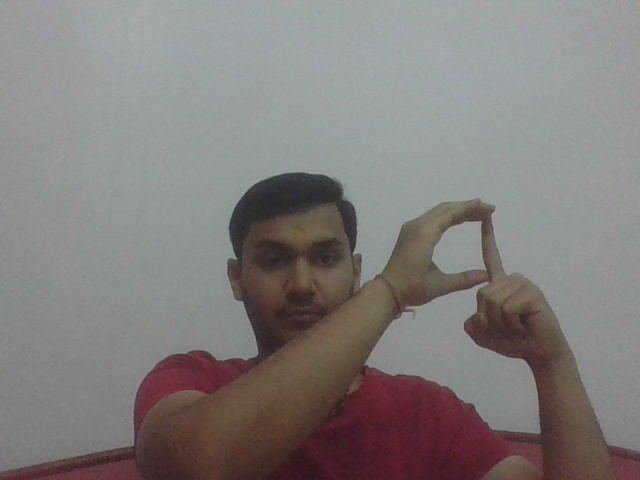D: (380, 197, 569, 363)
